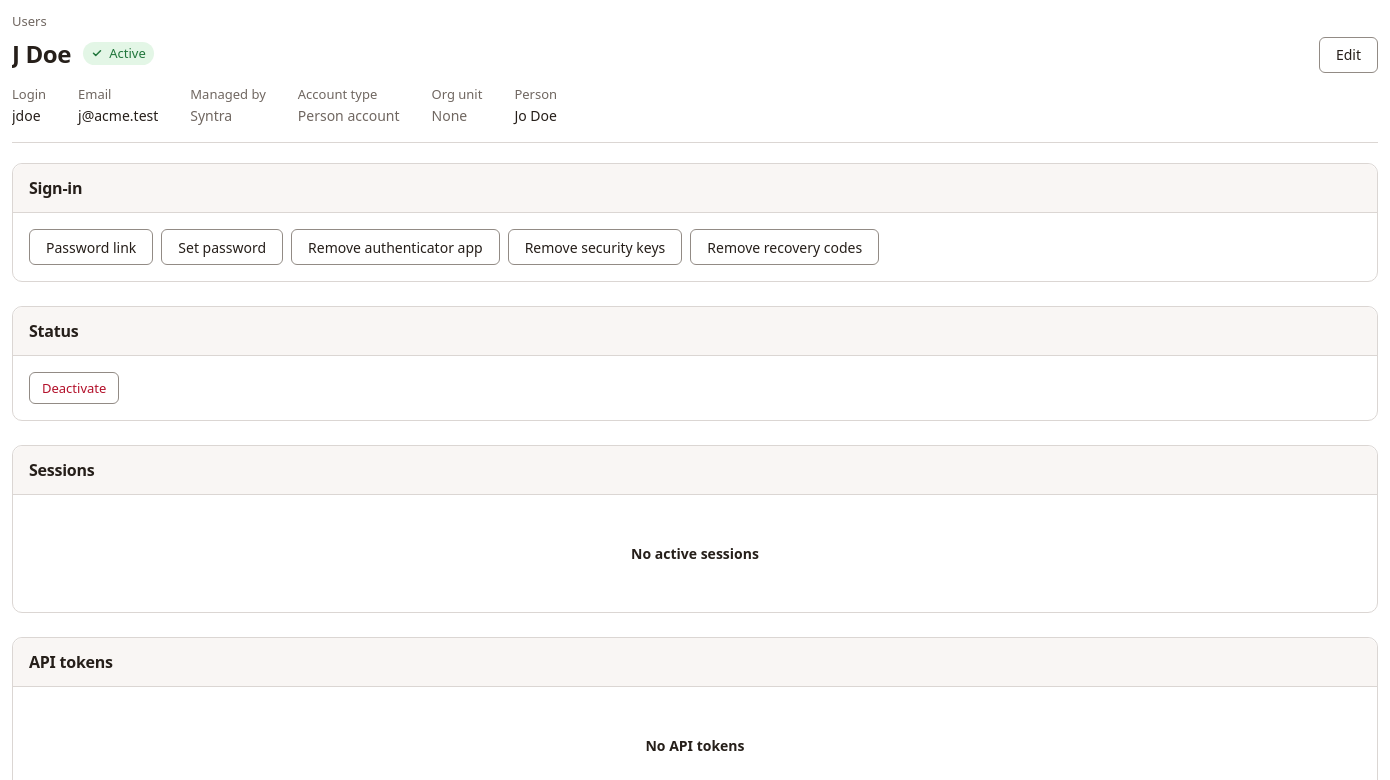
AccountDetailPage › second factors › removes a factor and says what went with it
expect the heading "J Doe" is shown: met, box top-left (12, 37), bottom-right (71, 70)
Click the button "Remove authenticator app": (395,247) top-left (291, 229), bottom-right (500, 265)
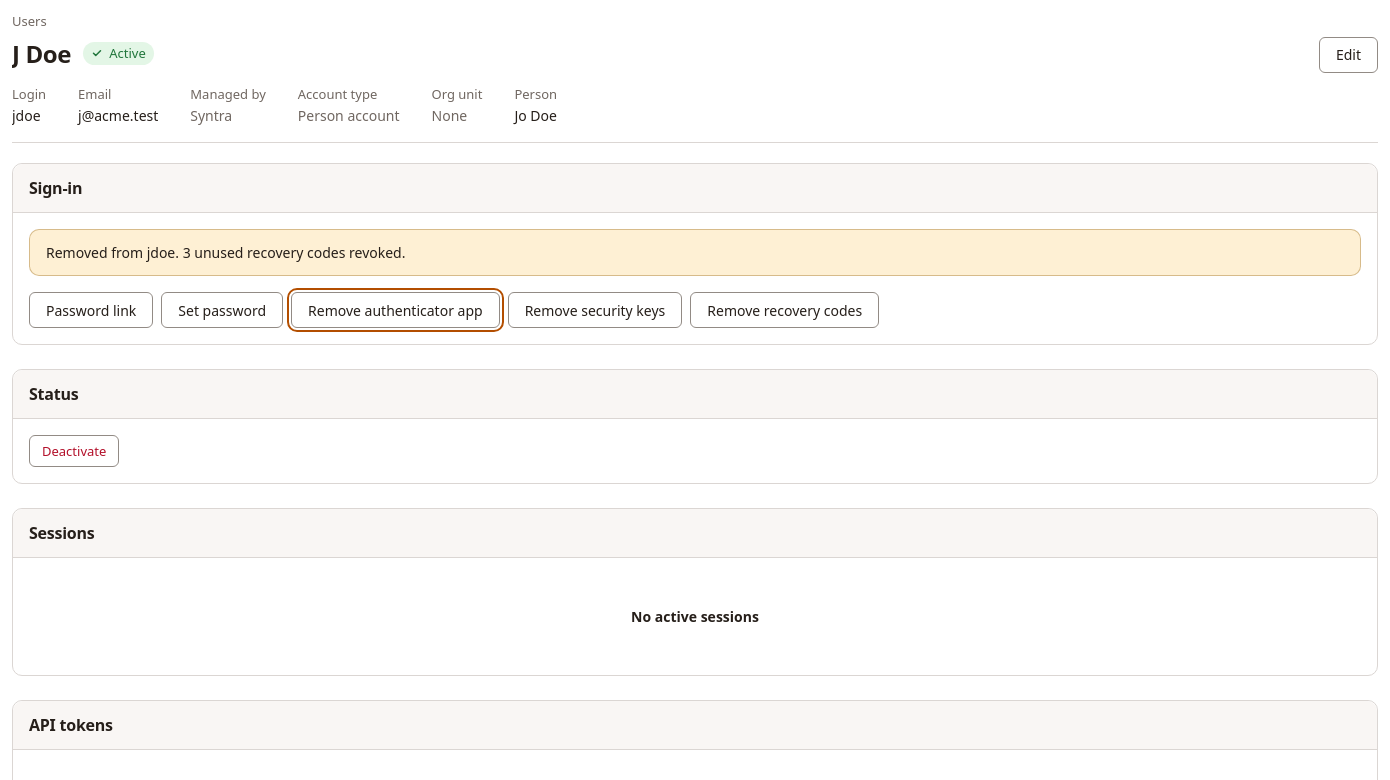
expect the text "Removed from jdoe. 3 unused recovery codes revoked." is shown: met, box top-left (46, 243), bottom-right (406, 262)
